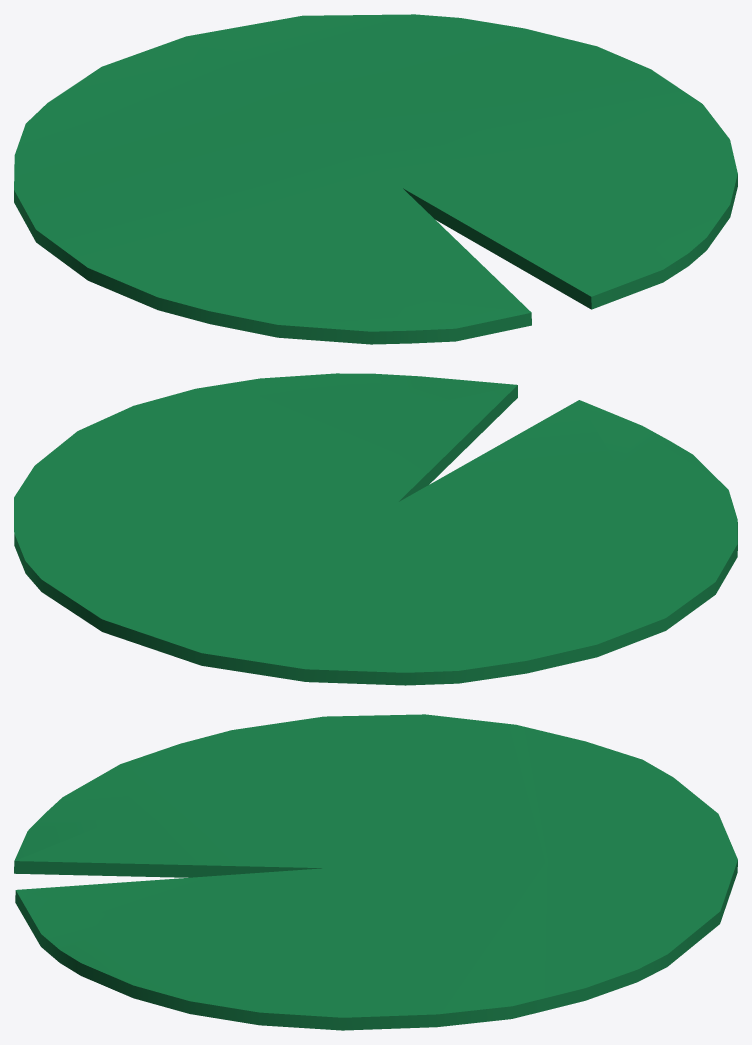
The model's file is plant_mushroom_leaf_F.fbx.
The picture shows the model from 3 angles, top to bottom: view 1: azimuth 30°, elevation 25°; view 2: azimuth 150°, elevation 25°; view 3: azimuth 270°, elevation 25°; orthographic projection.
Visible parts, largest first — view 1: plant_mushroom_leaf_F; view 2: plant_mushroom_leaf_F; view 3: plant_mushroom_leaf_F.
Boxes of the visible parts, bbox=[...] form: plant_mushroom_leaf_F: bbox=[14, 14, 737, 344]; plant_mushroom_leaf_F: bbox=[14, 373, 737, 685]; plant_mushroom_leaf_F: bbox=[14, 714, 737, 1030].
Bounding box in the file's own units: 37.04 × 1.49 × 36.99.
